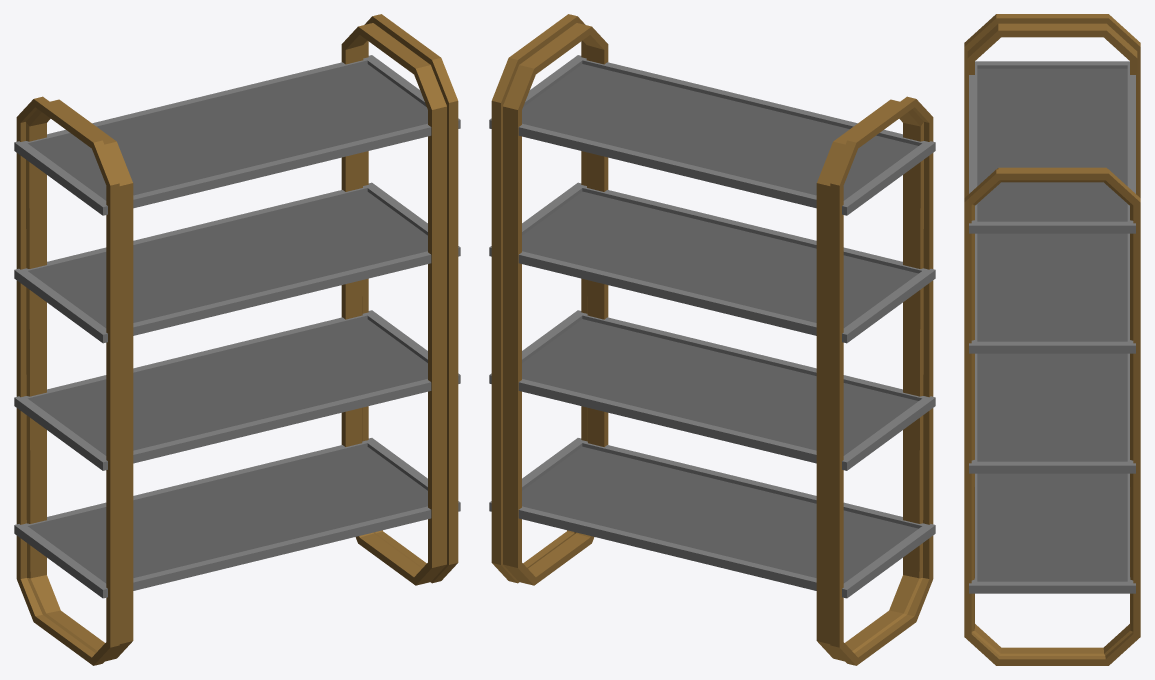
The model's file is shelf.glb.
3 renders of one model, left to right at view 1: azimuth 30°, elevation 25°; view 2: azimuth 150°, elevation 25°; view 3: azimuth 270°, elevation 25°, orthographic. The views are drawn at different scales.
Parts seen in each view (by area): view 1: shelf; view 2: shelf; view 3: shelf.
Boxes of the visible parts, bbox=[...] form: shelf: bbox=[14, 14, 460, 665]; shelf: bbox=[489, 14, 935, 665]; shelf: bbox=[964, 14, 1140, 665].
Bounding box in the file's own units: 1.36 × 1.9 × 0.6162.
